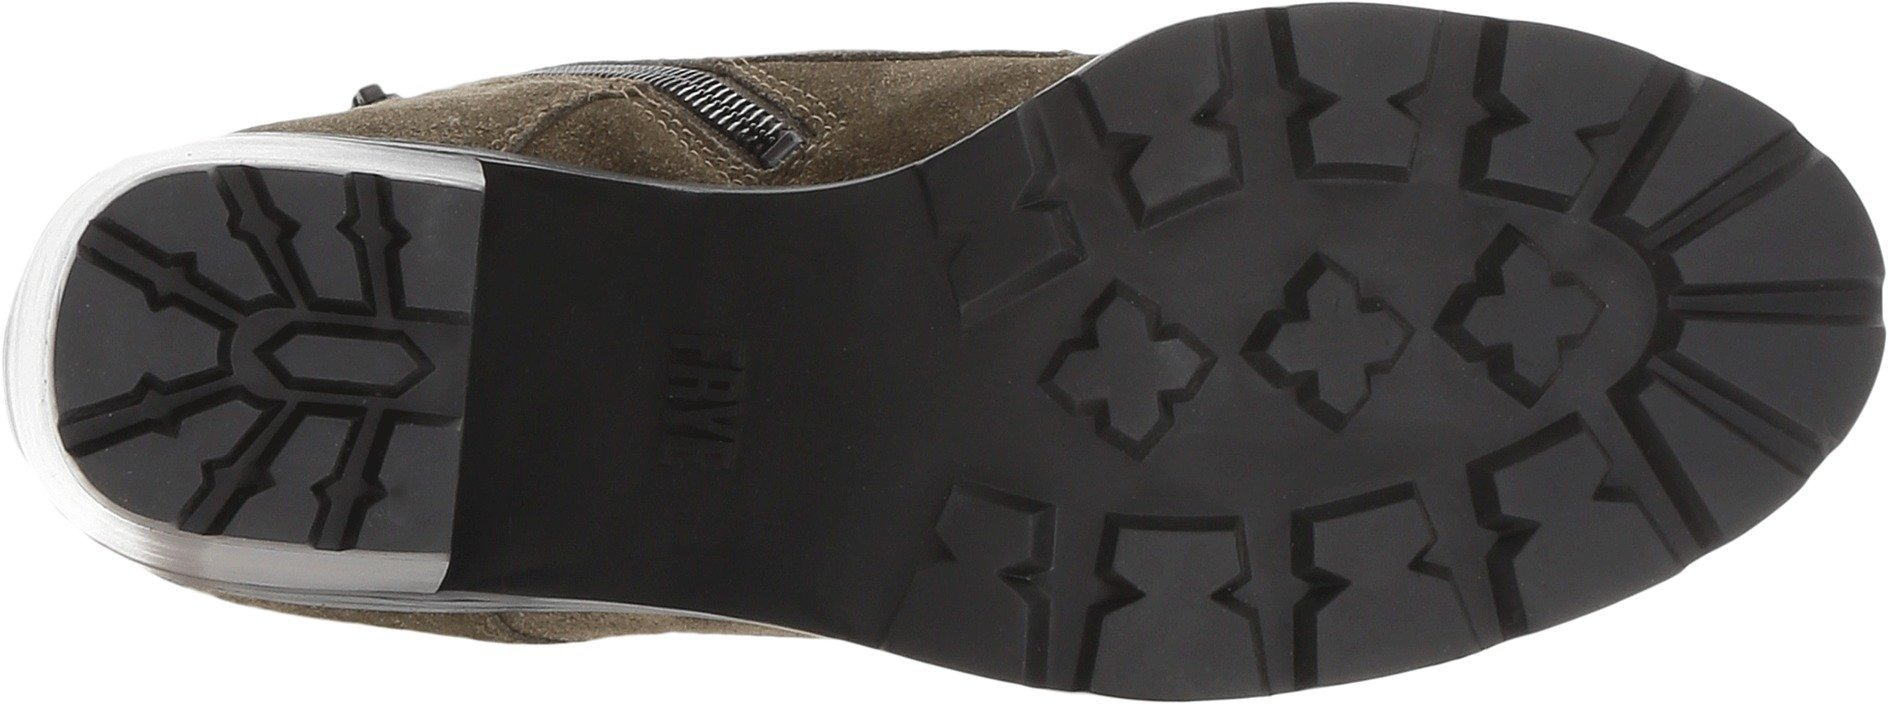bowtie: (1265, 464, 1487, 699), (195, 403, 478, 557), (910, 472, 1105, 686), (1259, 4, 1466, 196), (1249, 14, 1422, 196)
polygon: (267, 298, 432, 407)
star: (1226, 243, 1437, 443), (1035, 271, 1222, 470), (1437, 224, 1623, 411)
